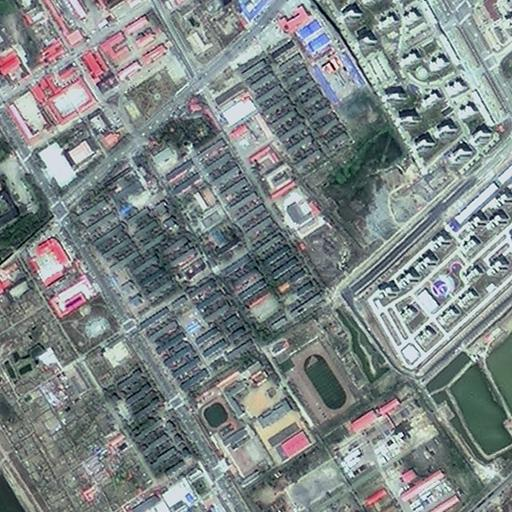school: (193, 386, 273, 484)
